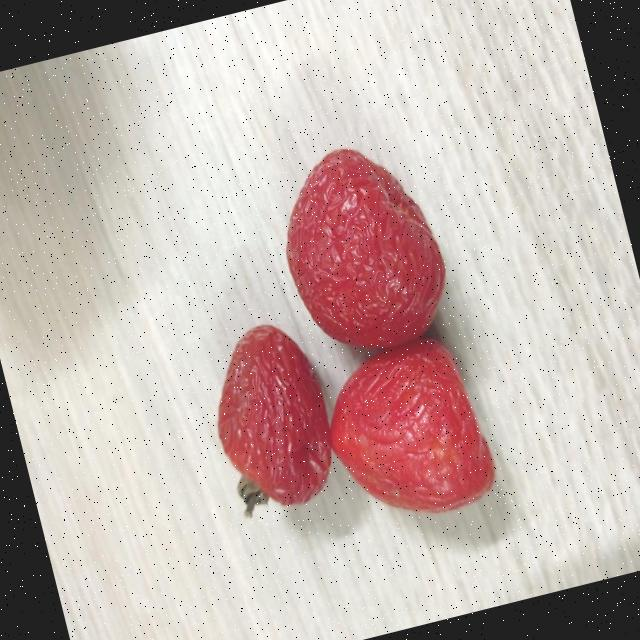overripe: (258, 122, 464, 368), (311, 330, 501, 538), (188, 307, 347, 524)
